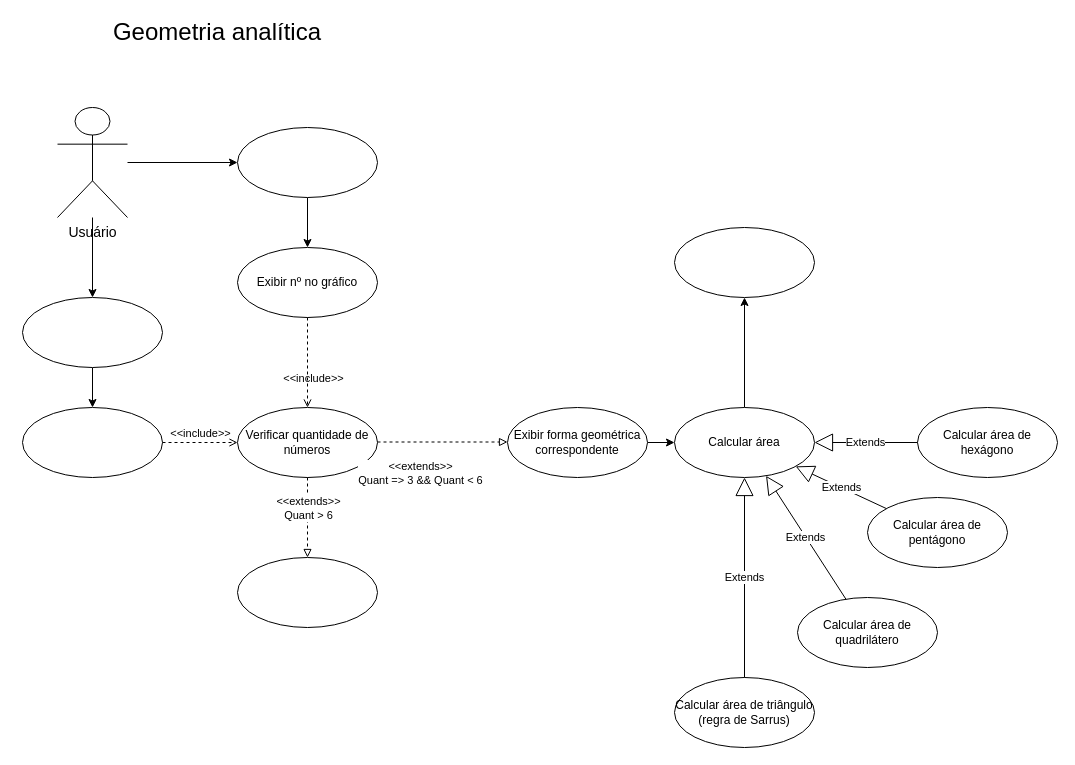
Image size: 1075x765. Some labels were removed from this diagram. Each missing label, with the centre of its shape:
"Exibir resultado" goes at (x=744, y=262).
"Inserir valores de Z" goes at (x=307, y=162).
"Remover número" goes at (x=92, y=332).
"Remover opção de adicionar números" goes at (x=307, y=592).
"Remover vetor do gráfico" goes at (x=92, y=442).
